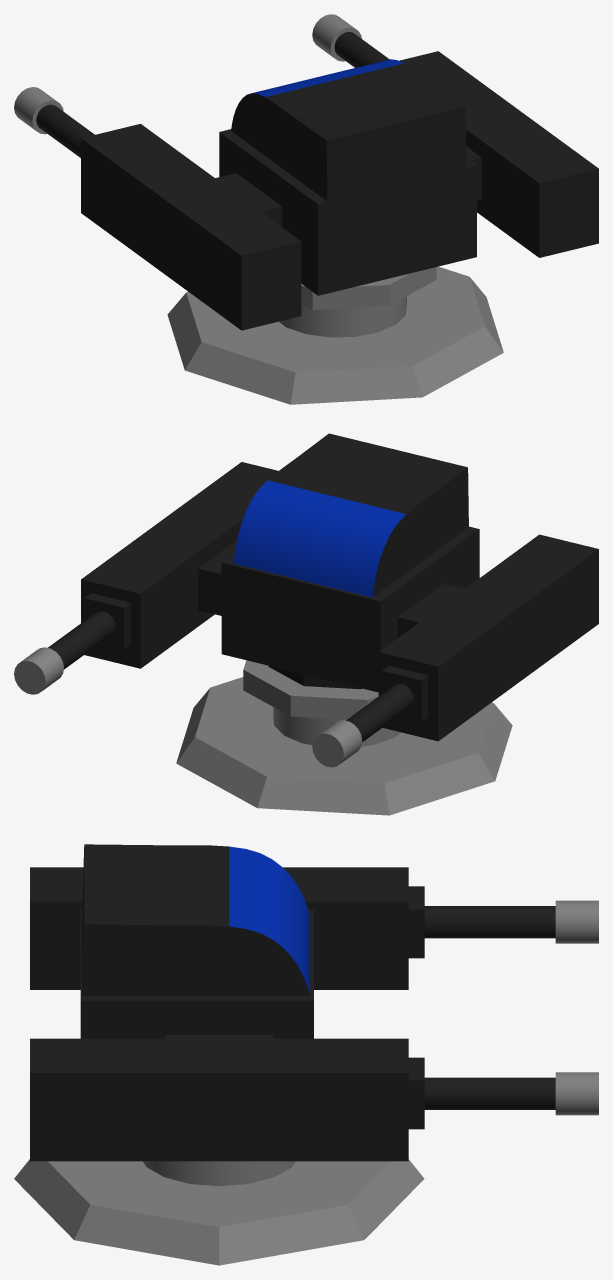
Rendered from Пушка 2.FBX.
3 views of the same model, one above another, from view 1: azimuth 30°, elevation 25°; view 2: azimuth 150°, elevation 25°; view 3: azimuth 270°, elevation 25° (orthographic). The views are drawn at different scales.
Visible parts, largest first — view 1: NGon001; view 2: NGon001; view 3: NGon001.
Part boxes in pixels (x1,y1,x2,y2): NGon001: (14,14,598,404); NGon001: (14,433,598,815); NGon001: (14,844,598,1265).
Size of the model in its own units: 89.92 by 60.45 by 108.
